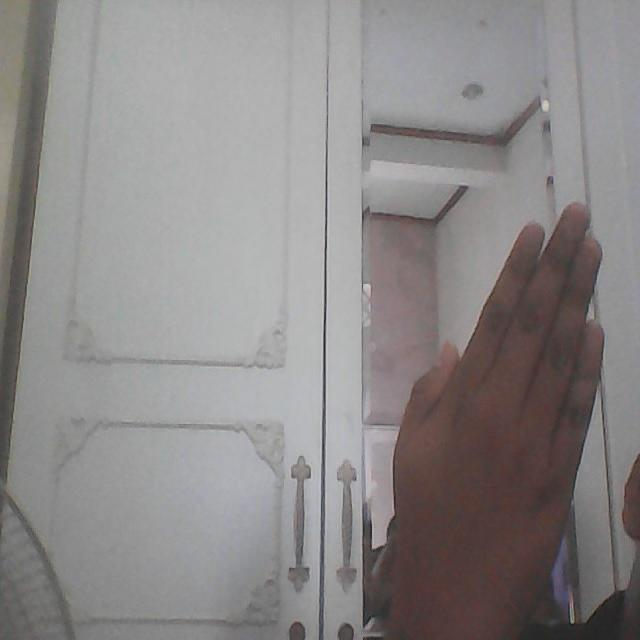hand: (384, 185, 616, 629)
